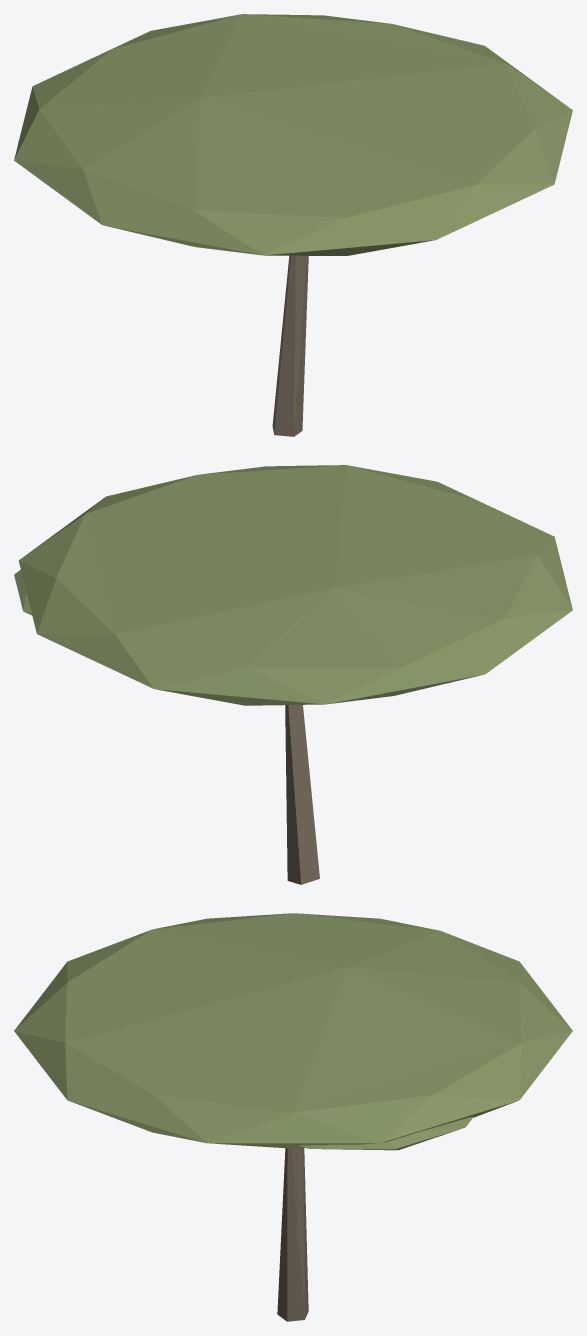
Rendered from acacia_LOD1.fbx.
The picture shows the model from 3 angles, top to bottom: view 1: azimuth 30°, elevation 25°; view 2: azimuth 150°, elevation 25°; view 3: azimuth 270°, elevation 25°; orthographic projection. The views are drawn at different scales.
Visible parts, largest first — view 1: acacia_LOD1; view 2: acacia_LOD1; view 3: acacia_LOD1.
Boxes of the visible parts, bbox=[...] form: acacia_LOD1: bbox=[14, 14, 572, 436]; acacia_LOD1: bbox=[14, 465, 572, 884]; acacia_LOD1: bbox=[14, 913, 572, 1321].
Bounding box in the file's own units: 1050 × 699 × 1104.
